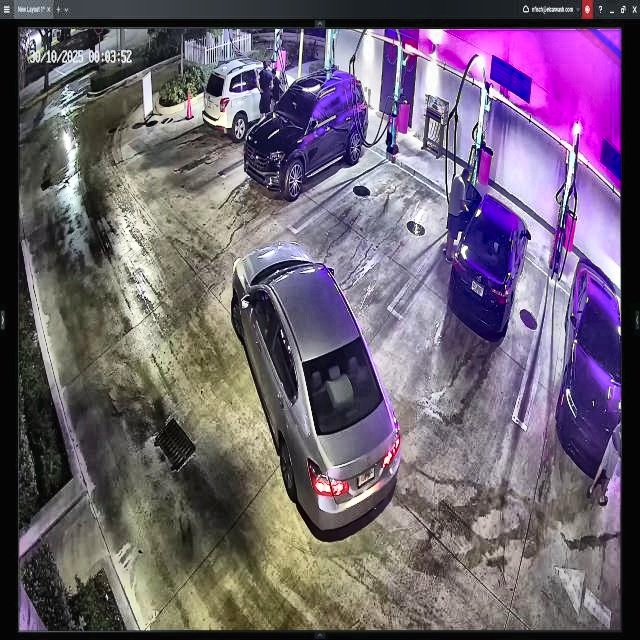Car: (230, 242, 401, 533), (242, 70, 370, 198), (449, 171, 529, 336)
